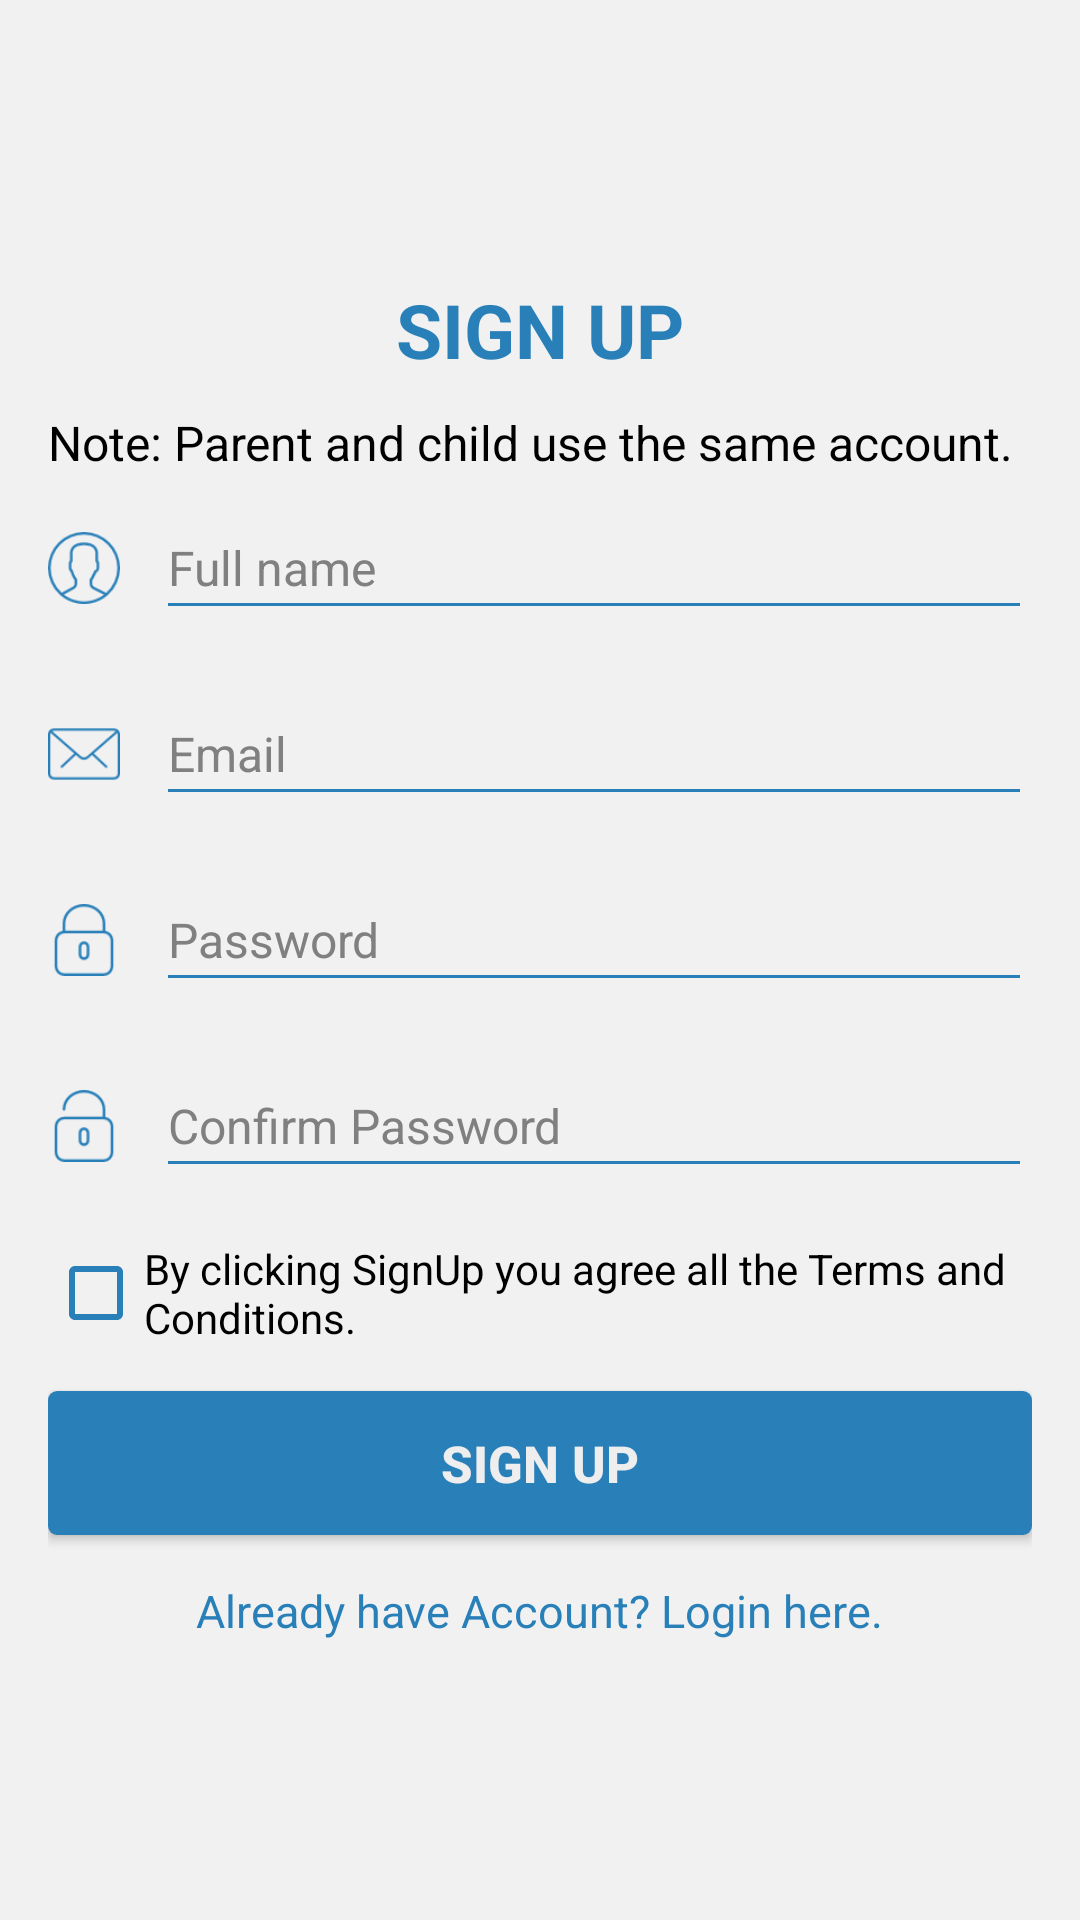

Where icons sit on this 1080px x 1920px app screen, as [x1,y1,x2,y2]:
user: [48,532,120,604]
